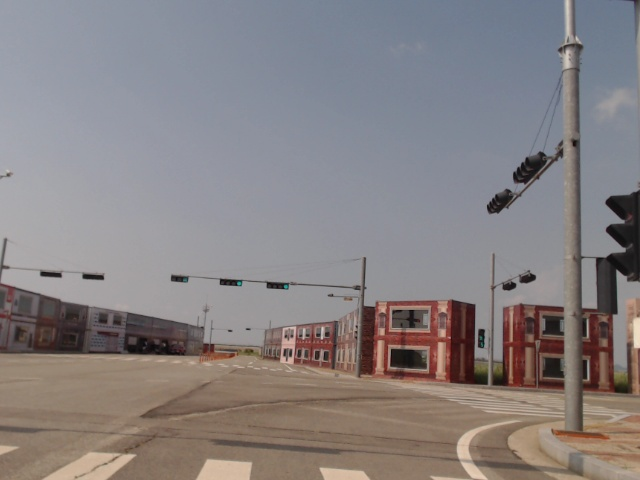straight_green_4: (268, 282, 289, 291), (220, 279, 242, 287)
